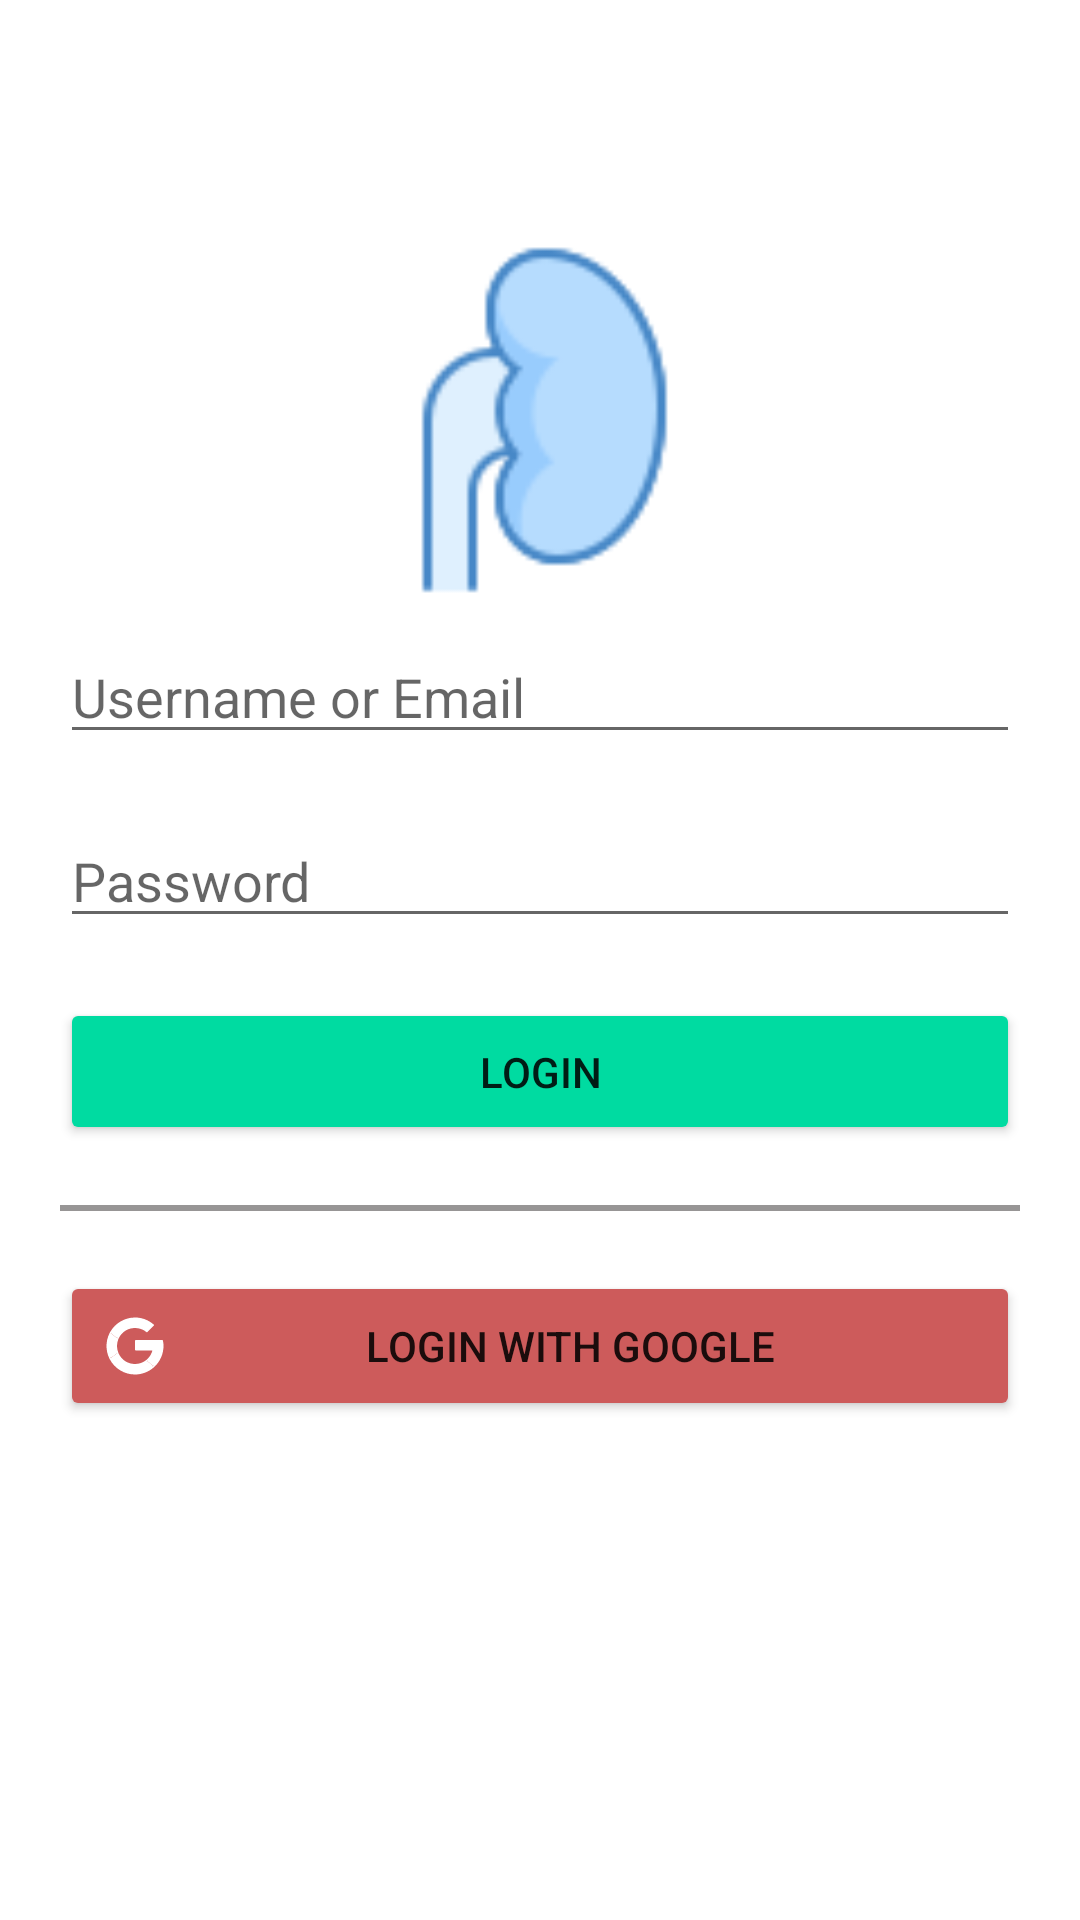

Where to tap for icons on this 1080 x 1920 app screen, as point (x, y):
rinon: point (544, 420)
